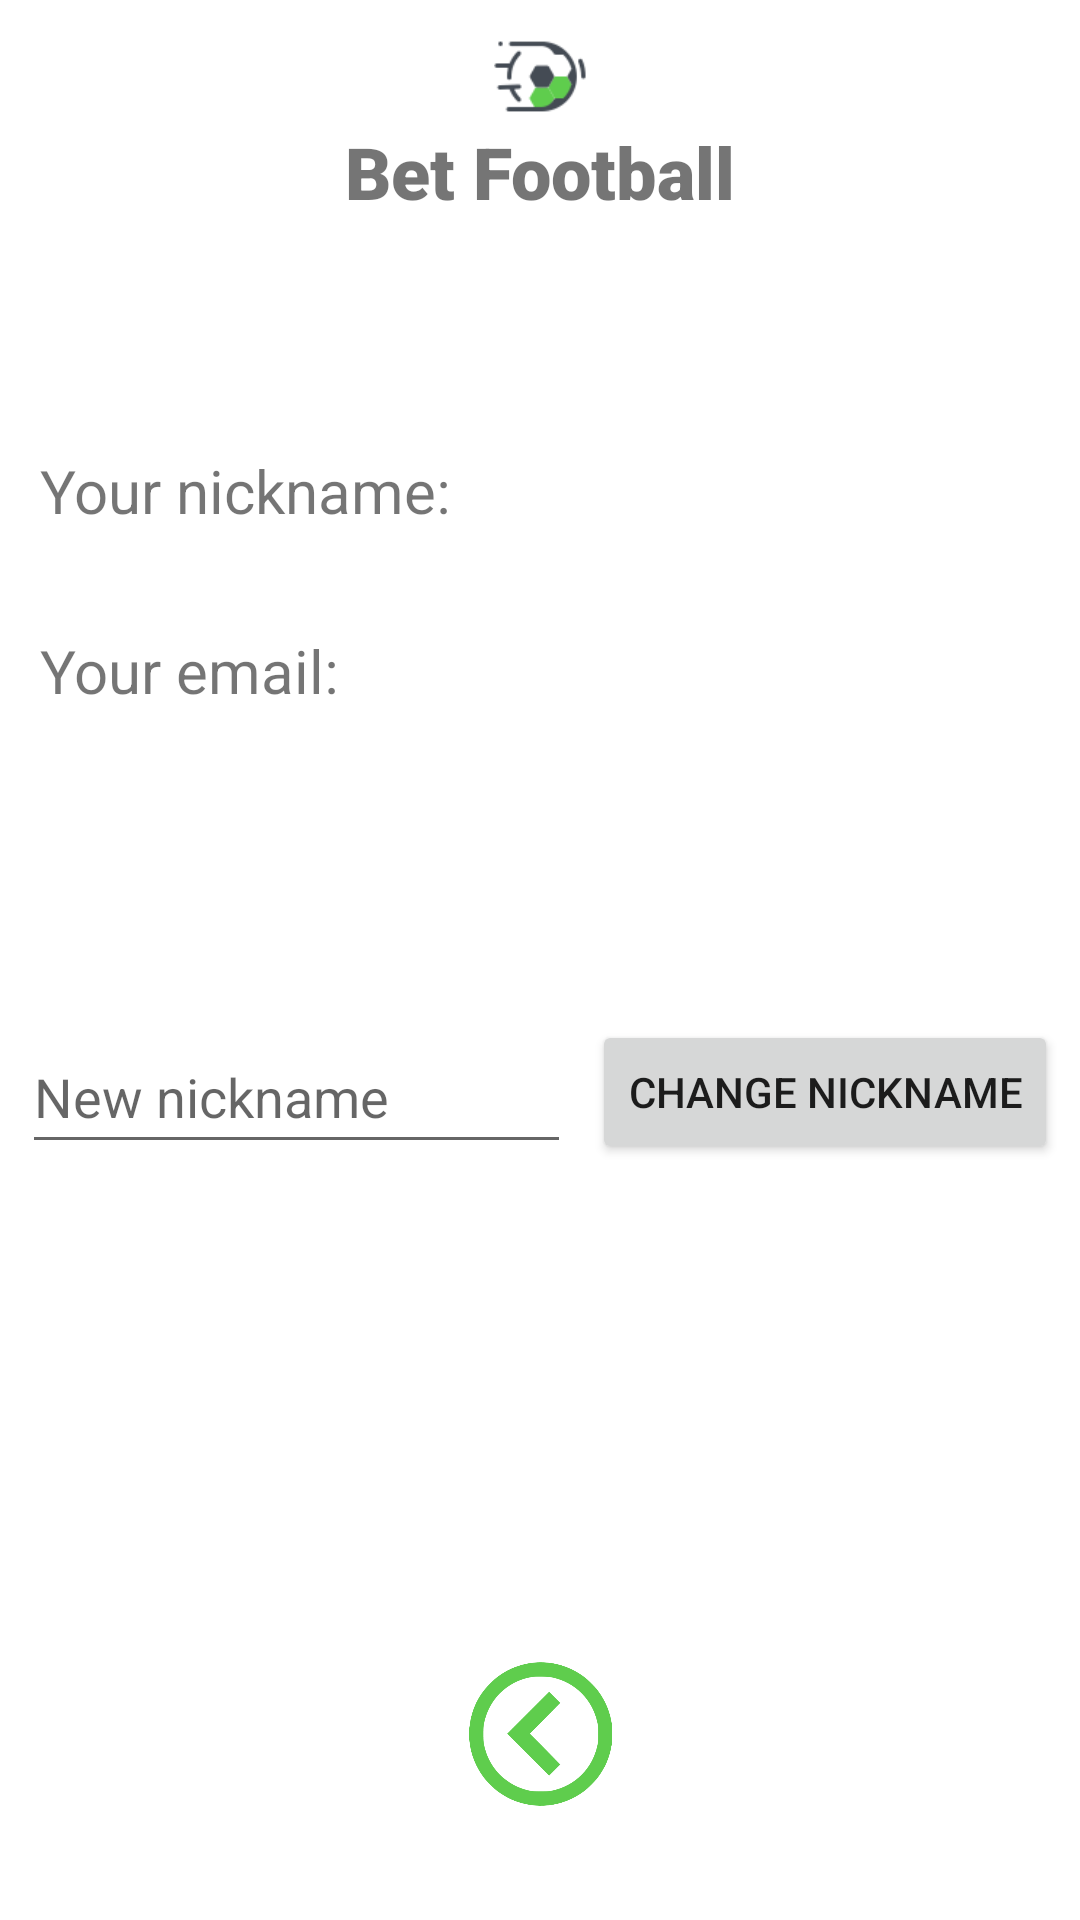

Screen size 1080x1920. Icon name, then its box in pixels as (x1, y1, x2, y2):
back: (469, 1662, 612, 1806)
